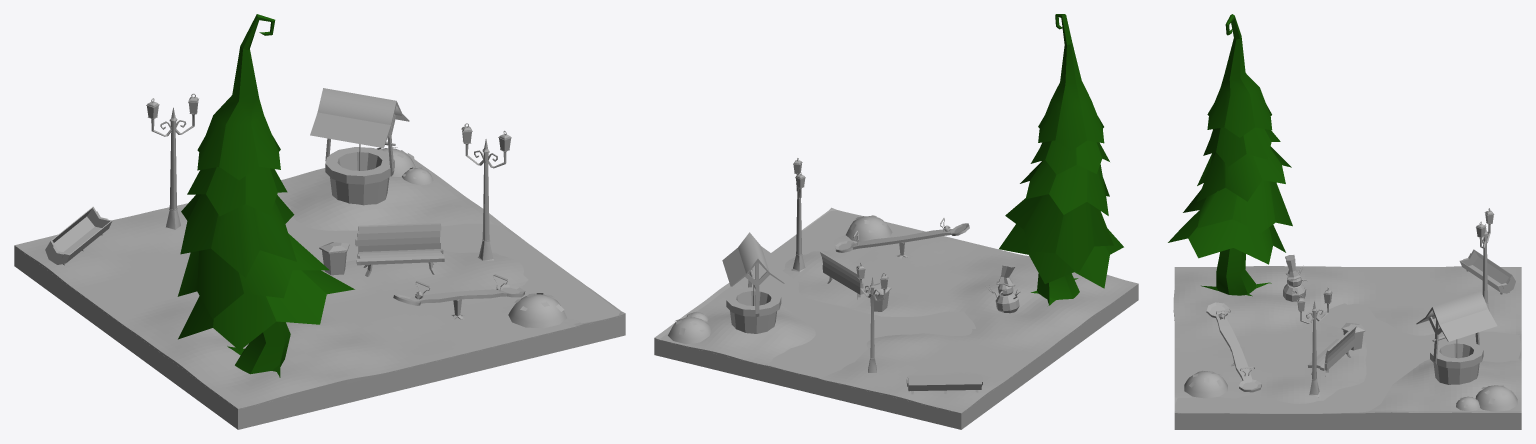
File: NEW_place_village_v1.fbx
3 views of the same model, side by side, from view 1: azimuth 30°, elevation 25°; view 2: azimuth 150°, elevation 25°; view 3: azimuth 270°, elevation 25° (orthographic). The views are drawn at different scales.
Parts seen in each view (by area): view 1: sol21, sapin6, sol4, puit, chemin, banc, abreuvoir, Buisson8, lampadaire1, lampadaire, tape_cul, poubelle1; view 2: sol21, sapin6, chemin, sol4, puit, abreuvoir, tape_cul, banc, Buisson9, Buisson8, lampadaire1, lampadaire; view 3: sol21, sapin6, chemin, sol4, puit, tape_cul, abreuvoir, Buisson8, Buisson9, banc, lampadaire, lampadaire1.
Boxes of the visible parts, x1=… form: sol21: x1=14, y1=150, x2=625, y2=409; sapin6: x1=177, y1=14, x2=354, y2=377; sol4: x1=14, y1=195, x2=625, y2=429; puit: x1=310, y1=88, x2=409, y2=205; chemin: x1=284, y1=202, x2=619, y2=323; banc: x1=355, y1=223, x2=444, y2=276; abreuvoir: x1=45, y1=206, x2=112, y2=265; Buisson8: x1=508, y1=293, x2=566, y2=328; lampadaire1: x1=146, y1=93, x2=198, y2=229; lampadaire: x1=461, y1=123, x2=511, y2=260; tape_cul: x1=393, y1=274, x2=525, y2=305; poubelle1: x1=319, y1=242, x2=349, y2=275; sol21: x1=654, y1=207, x2=1138, y2=413; sapin6: x1=999, y1=14, x2=1123, y2=305; chemin: x1=737, y1=210, x2=975, y2=378; sol4: x1=654, y1=227, x2=1138, y2=429; puit: x1=722, y1=232, x2=784, y2=333; abreuvoir: x1=906, y1=374, x2=982, y2=394; tape_cul: x1=835, y1=218, x2=969, y2=252; banc: x1=820, y1=251, x2=871, y2=302; Buisson9: x1=668, y1=316, x2=711, y2=344; Buisson8: x1=846, y1=215, x2=892, y2=241; lampadaire1: x1=856, y1=263, x2=888, y2=372; lampadaire: x1=791, y1=158, x2=805, y2=272; sol21: x1=1173, y1=266, x2=1521, y2=414; sapin6: x1=1168, y1=14, x2=1292, y2=296; chemin: x1=1175, y1=303, x2=1520, y2=413; sol4: x1=1174, y1=303, x2=1521, y2=429; puit: x1=1416, y1=291, x2=1497, y2=384; tape_cul: x1=1206, y1=302, x2=1261, y2=392; abreuvoir: x1=1459, y1=249, x2=1515, y2=294; Buisson8: x1=1184, y1=370, x2=1227, y2=398; Buisson9: x1=1475, y1=385, x2=1517, y2=411; banc: x1=1308, y1=326, x2=1356, y2=377; lampadaire: x1=1296, y1=287, x2=1332, y2=397; lampadaire1: x1=1476, y1=208, x2=1494, y2=311.
Bounding box in the file's own units: 821 × 740 × 817.
